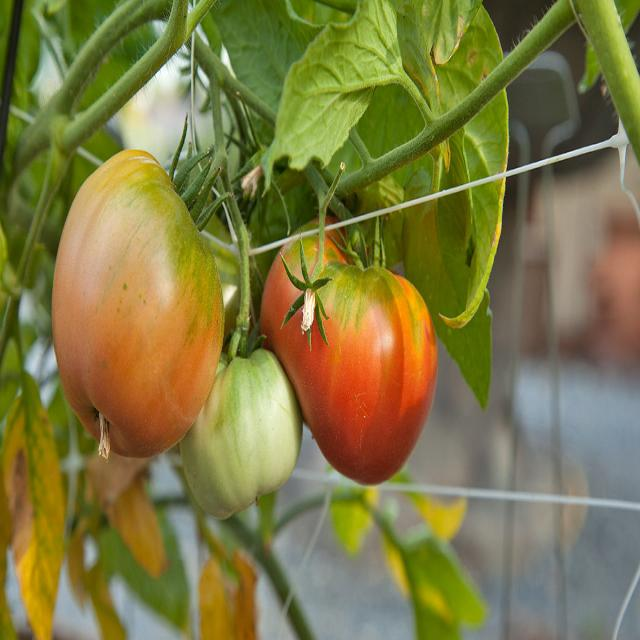sari: (46, 144, 215, 475)
